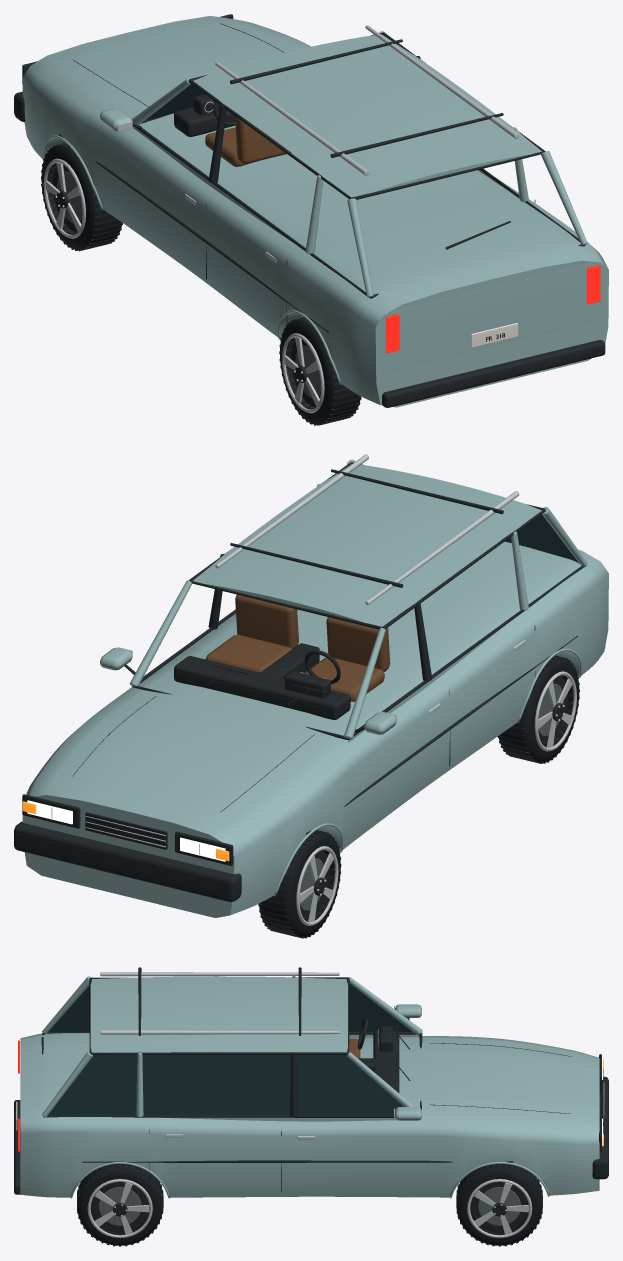
Rendered from traffic-wagon.glb.
3 renders of one model, top to bottom at view 1: azimuth 30°, elevation 25°; view 2: azimuth 150°, elevation 25°; view 3: azimuth 270°, elevation 25°, orthographic. The views are drawn at different scales.
Visible parts, largest first — view 1: Traffic enamel.001, Traffic polymer.001, Traffic tire rubber.001, Traffic satin alloy.001, Traffic upholstery.001, Dark brake steel.001, Traffic ruby lamps.001, Traffic smoked glazing.001, Traffic registration.001; view 2: Traffic enamel.001, Traffic polymer.001, Traffic upholstery.001, Traffic tire rubber.001, Traffic satin alloy.001, Traffic smoked glazing.001, Traffic ivory lamps.001, Dark brake steel.001; view 3: Traffic enamel.001, Traffic smoked glazing.001, Traffic polymer.001, Traffic tire rubber.001, Traffic satin alloy.001, Dark brake steel.001.
Part boxes in pixels (left/top/right/bottom): Traffic enamel.001: left=22, top=16, right=608, bottom=407; Traffic polymer.001: left=14, top=14, right=605, bottom=425; Traffic tire rubber.001: left=41, top=143, right=360, bottom=424; Traffic satin alloy.001: left=43, top=25, right=519, bottom=413; Traffic upholstery.001: left=205, top=115, right=291, bottom=166; Dark brake steel.001: left=57, top=171, right=321, bottom=397; Traffic ruby lamps.001: left=386, top=265, right=600, bottom=353; Traffic smoked glazing.001: left=145, top=84, right=204, bottom=120; Traffic registration.001: left=471, top=323, right=518, bottom=347; Traffic enamel.001: left=22, top=459, right=608, bottom=917; Traffic polymer.001: left=14, top=462, right=605, bottom=938; Traffic upholstery.001: left=205, top=594, right=390, bottom=701; Traffic tire rubber.001: left=259, top=656, right=579, bottom=936; Traffic satin alloy.001: left=51, top=454, right=576, bottom=925; Traffic smoked glazing.001: left=502, top=514, right=578, bottom=562; Traffic ivory lamps.001: left=27, top=800, right=225, bottom=861; Dark brake steel.001: left=299, top=684, right=563, bottom=910; Traffic enamel.001: left=20, top=976, right=599, bottom=1198; Traffic smoked glazing.001: left=48, top=983, right=412, bottom=1115; Traffic polymer.001: left=14, top=967, right=608, bottom=1246; Traffic tire rubber.001: left=77, top=1164, right=542, bottom=1245; Traffic satin alloy.001: left=87, top=972, right=604, bottom=1238; Dark brake steel.001: left=98, top=1187, right=520, bottom=1225.
Bounding box in the file's own units: 2.12 × 1.78 × 4.83.
